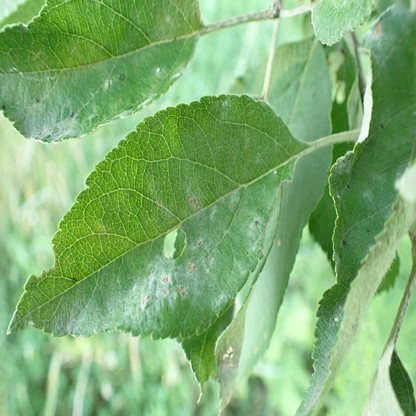powdery_mildew: (7, 96, 307, 340), (295, 1, 414, 415), (0, 0, 202, 143), (213, 313, 245, 416)
